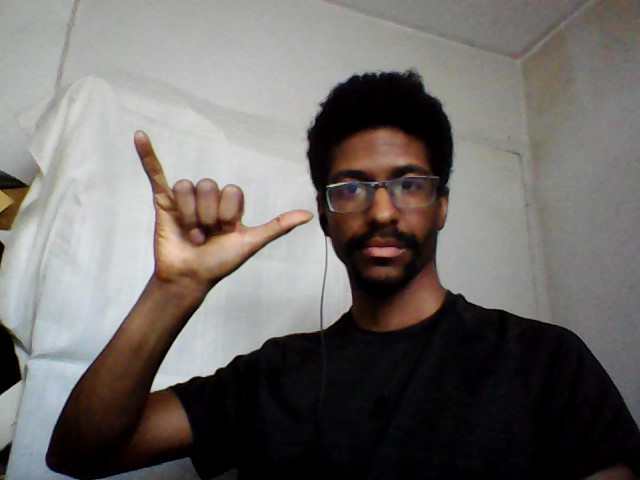y: (129, 125, 315, 290)
